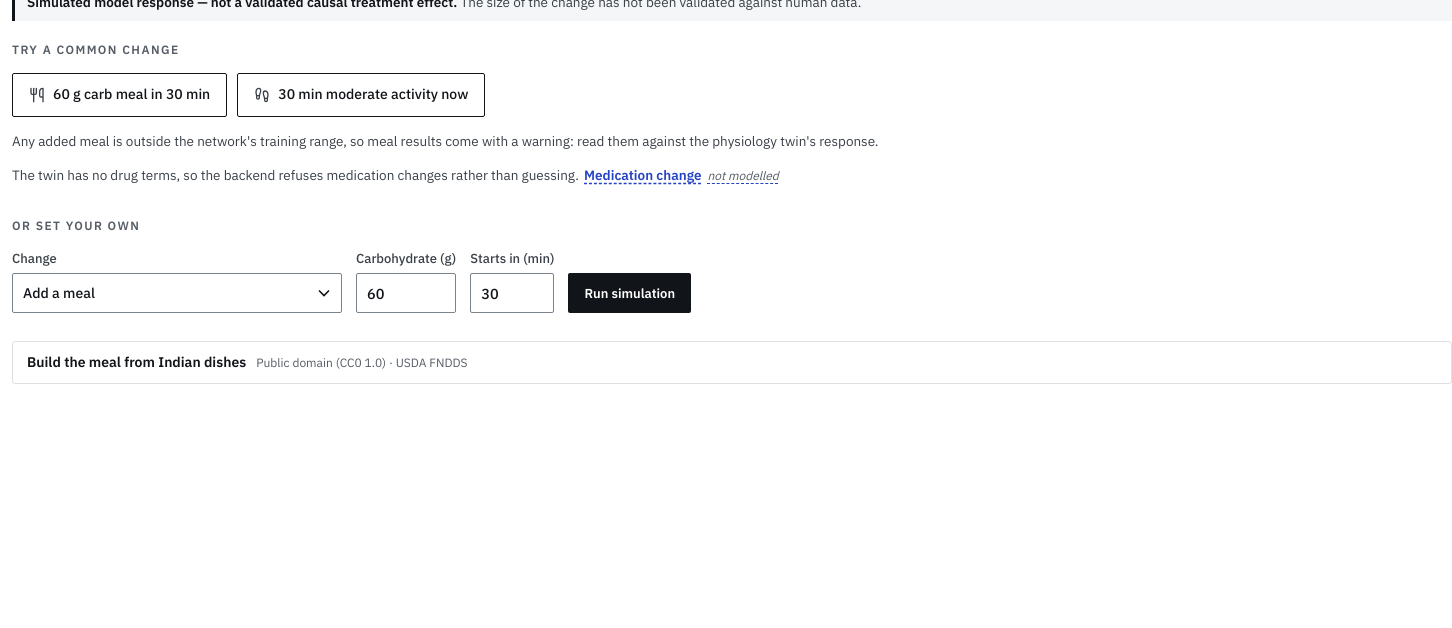
ScenarioEditor — backend-driven what-if › reports unavailable risk honestly on a physics-only fallback
The width and height of the screenshot is (1452, 628).
Step 1. Click the button "Run simulation" → (630, 293), box x1=568 y1=273 x2=691 y2=313
(page scrolled)
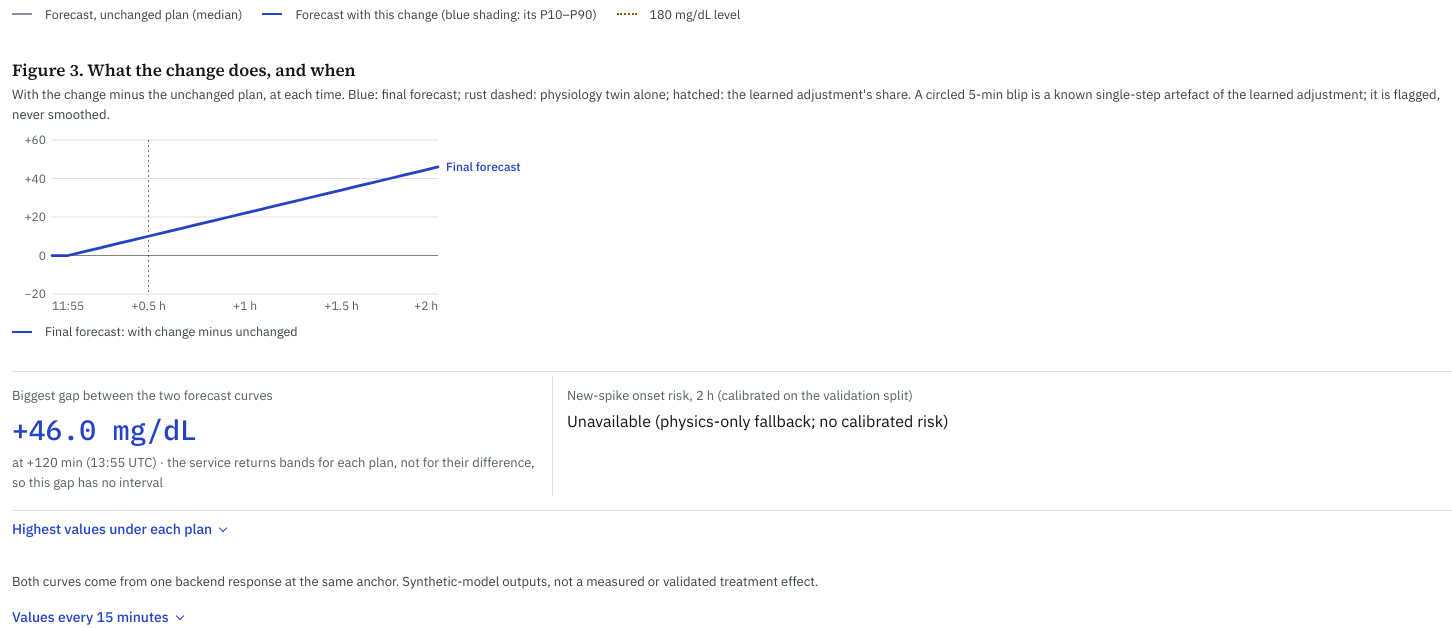
Check: the text with test id "scenario-risk" reads "Unavailable (physics-only fallback; no calibrated risk)", box x1=567 y1=409 x2=988 y2=433
